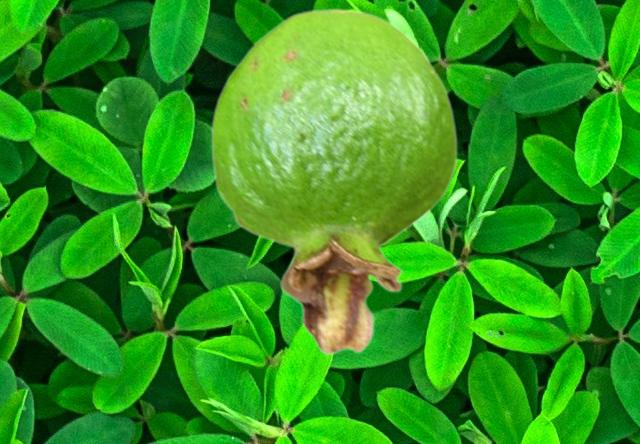guava: (210, 7, 457, 355)
